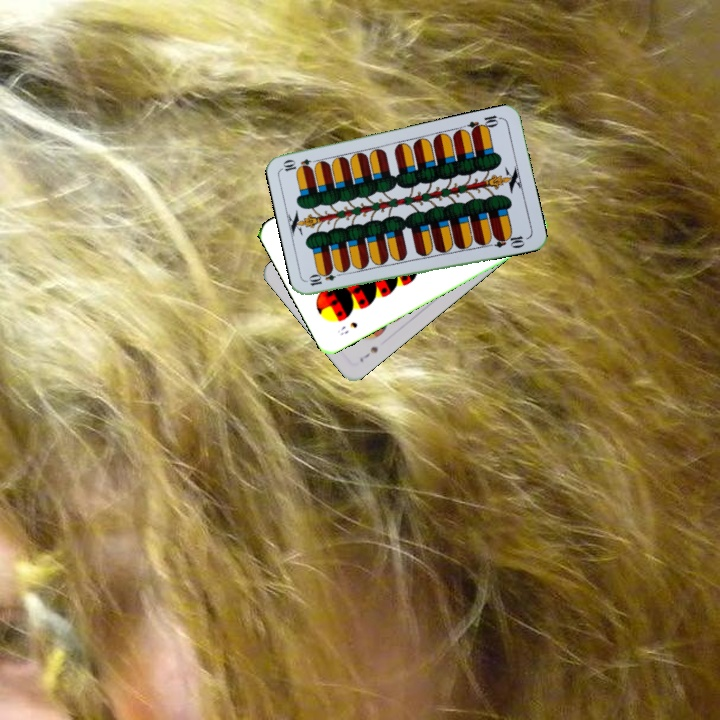E10: (464, 111, 504, 136), (305, 268, 345, 288)
S7: (355, 342, 381, 365)
S8: (333, 318, 360, 337)
